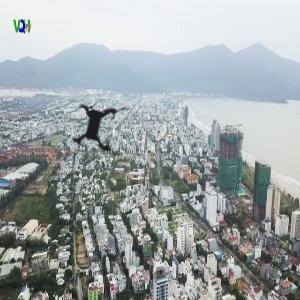drone: (43, 71, 157, 185)
